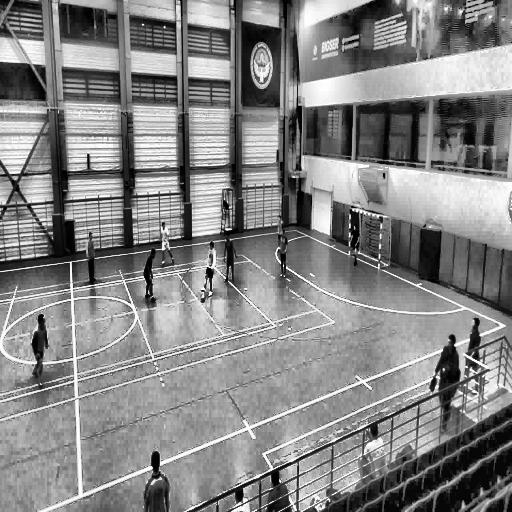ball: (201, 294, 206, 305)
player: (32, 312, 50, 386), (464, 318, 482, 389), (202, 241, 217, 298), (144, 248, 157, 300), (223, 232, 236, 284), (277, 227, 288, 278), (161, 223, 174, 266), (86, 231, 96, 283)
